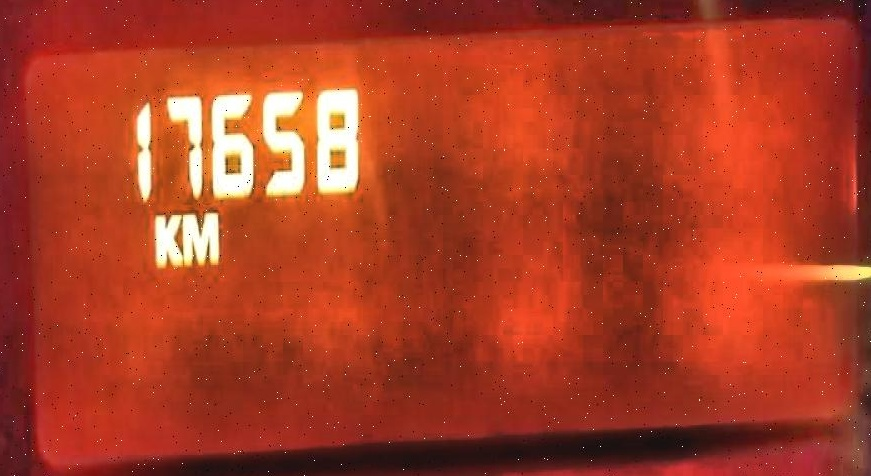1: (124, 95, 159, 205)
5: (258, 83, 308, 199)
6: (208, 86, 254, 201)
7: (160, 88, 205, 199)
8: (310, 83, 360, 198)
X: (180, 208, 221, 266), (150, 208, 181, 271)
